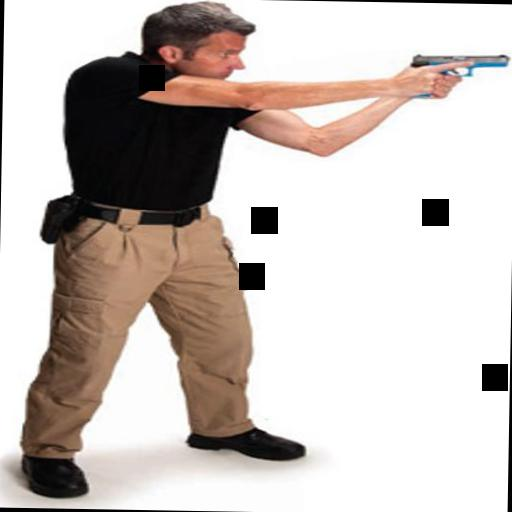Handgun: (408, 50, 510, 100)
